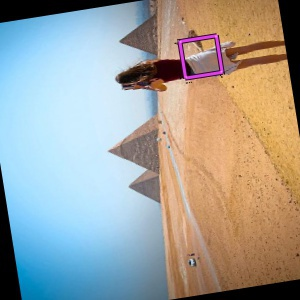square: (173, 31, 229, 83)
